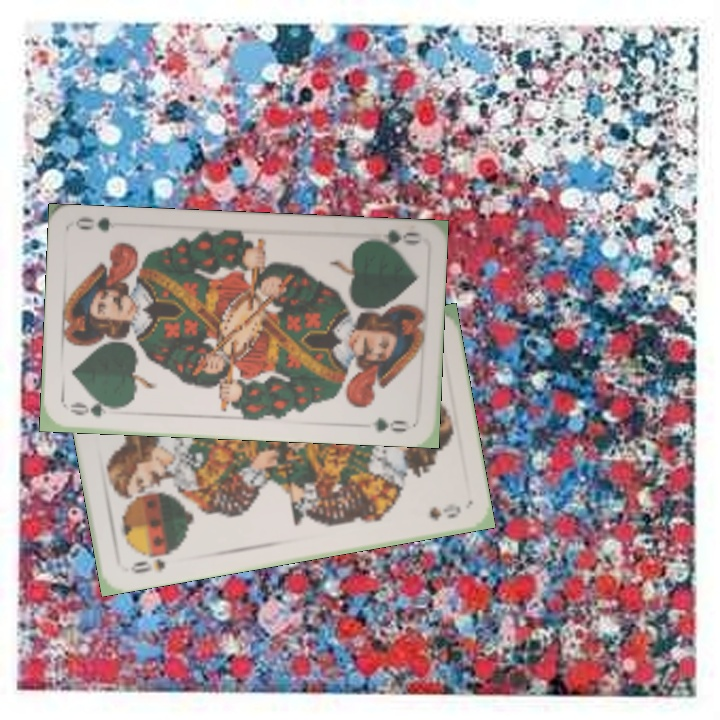GO: (362, 225, 422, 252), (66, 397, 124, 419)
SO: (127, 548, 175, 576)
